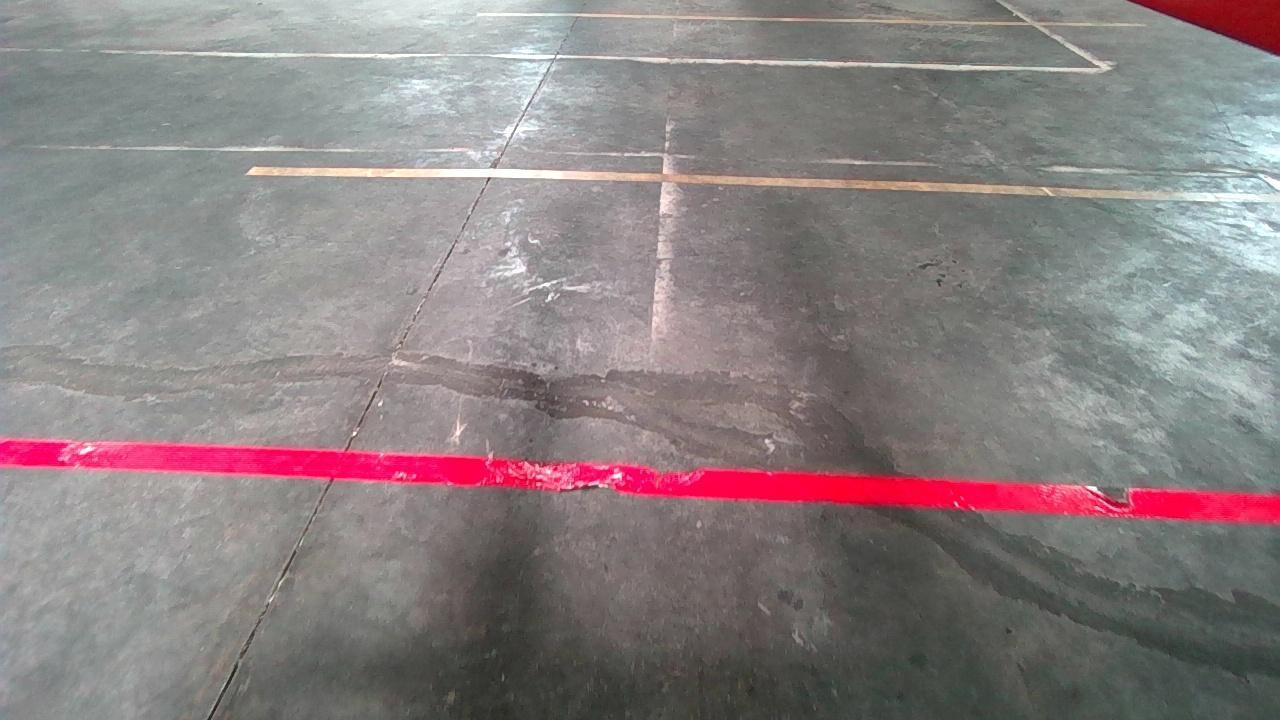red_line: (5, 436, 1277, 521)
yellow_line: (242, 158, 1239, 203)
